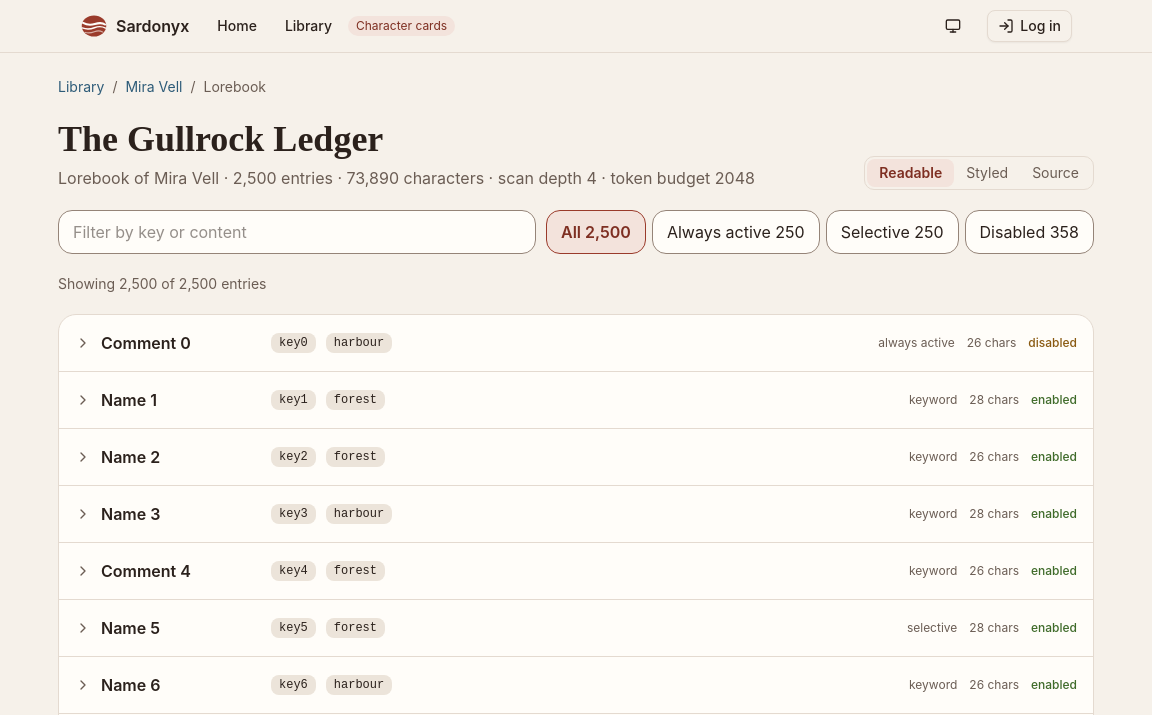
Test: the lorebook page › finds entries by key, name, comment or content, whatever the case, with counts per kind
This screenshot has width=1152, height=715.
Expected: the button "All 2,500" is shown, [546, 210, 646, 254]
Expected: the button "Always active 250" is shown, [652, 210, 820, 254]
In the search field named "Filter entries": [297, 232] box [58, 210, 536, 254], type "DRAGON"
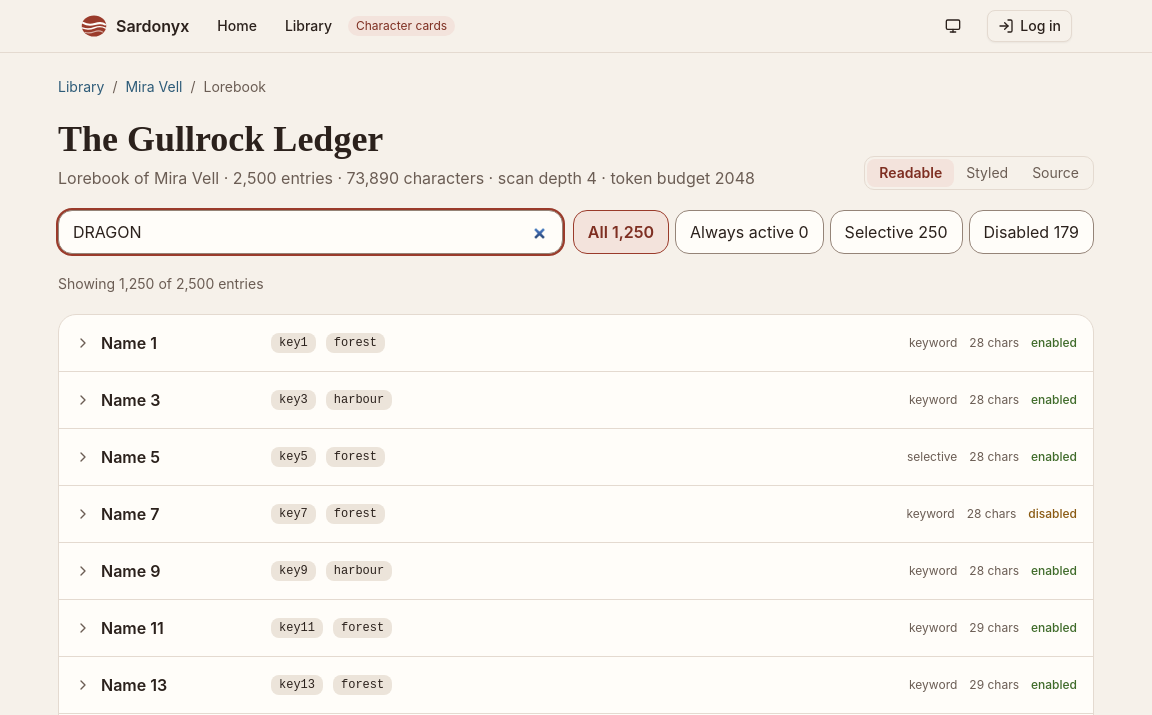
Expected: the text "Showing 1,250 of 2,500 entries" is shown, [58, 275, 264, 292]
Expected: the button "All 1,250" is shown, [573, 210, 669, 254]
Expected: the button "Always active 0" is shown, [675, 210, 824, 254]
// by a key, and by a comment
Clear the search field named "Filter entries": [310, 232] box [58, 210, 563, 254]
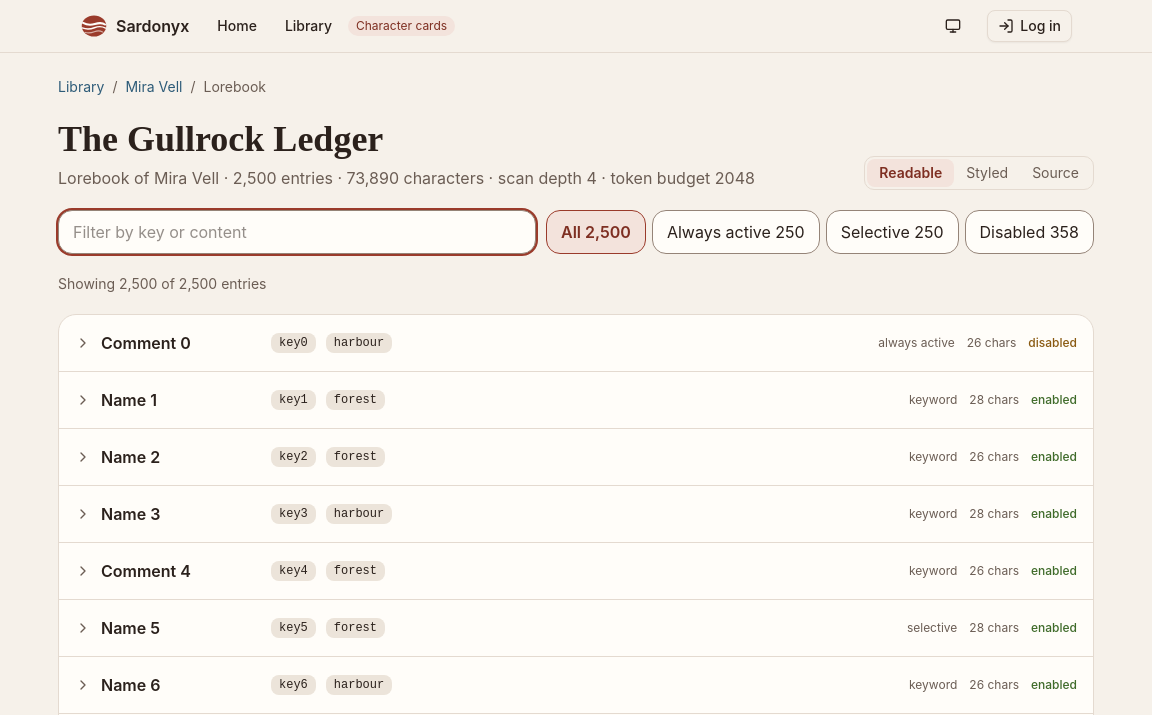
In the search field named "Filter entries": [297, 232] box [58, 210, 536, 254], type "harbour"
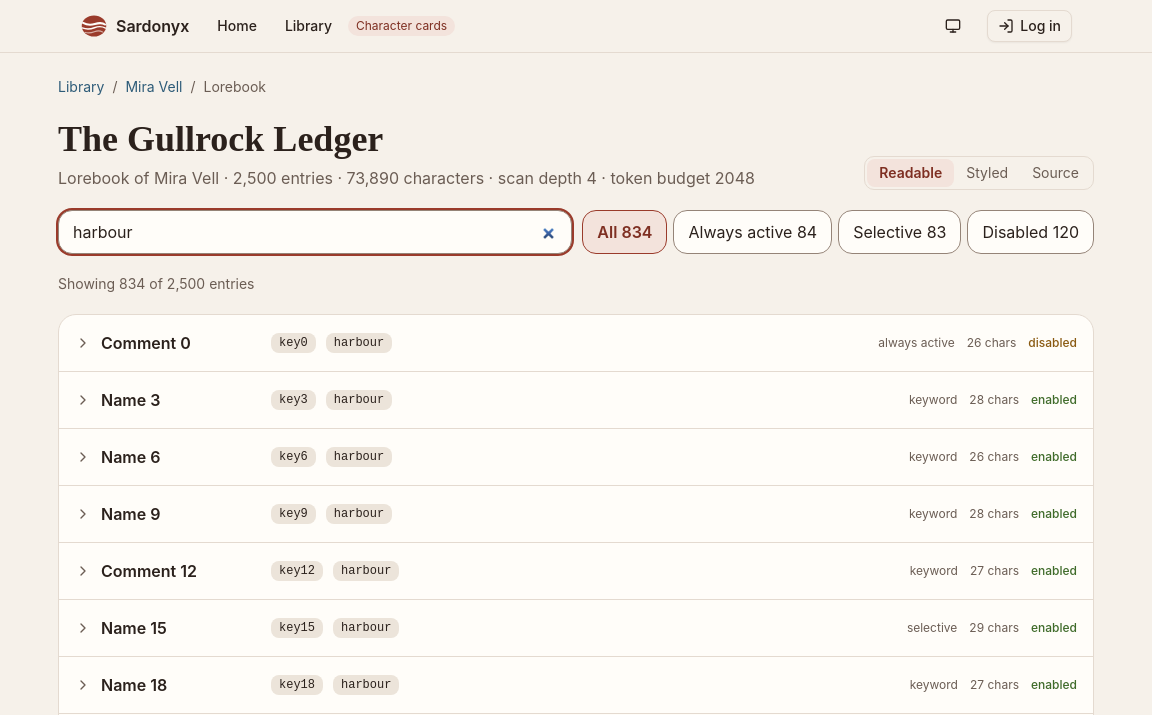
Expected: the text "Showing 834 of 2,500 entries" is shown, [58, 275, 254, 292]
Clear the search field named "Filter entries": [315, 232] box [58, 210, 572, 254]
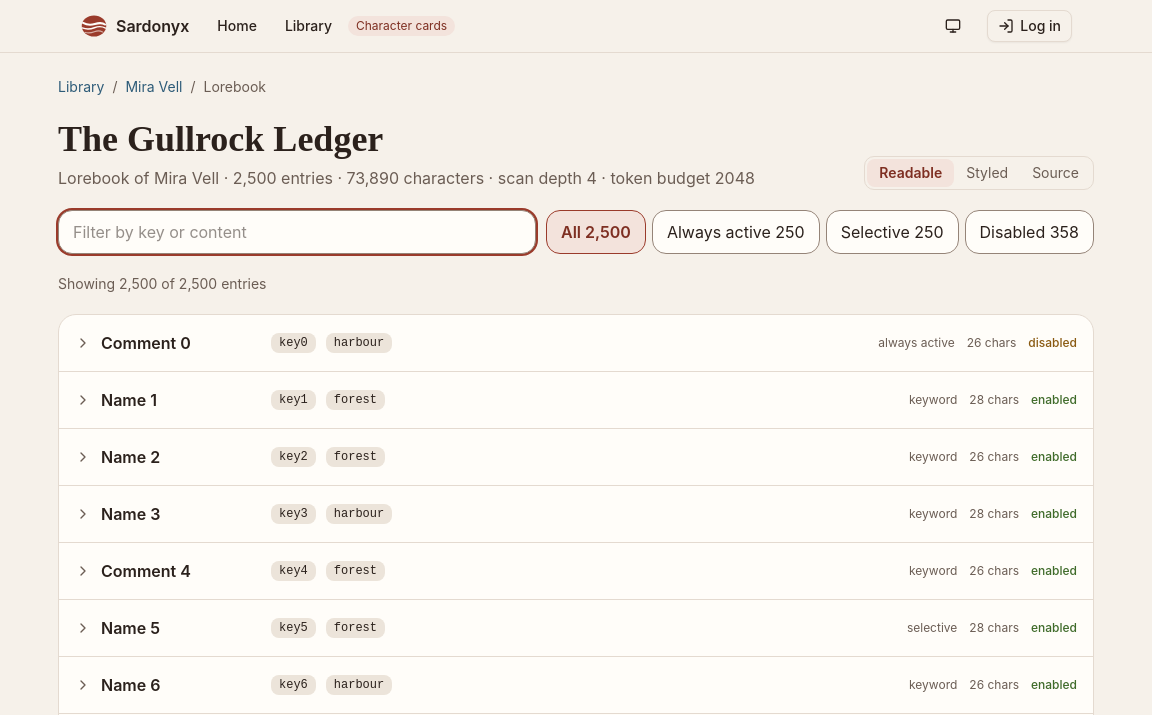
In the search field named "Filter entries": [297, 232] box [58, 210, 536, 254], type "comment 12"
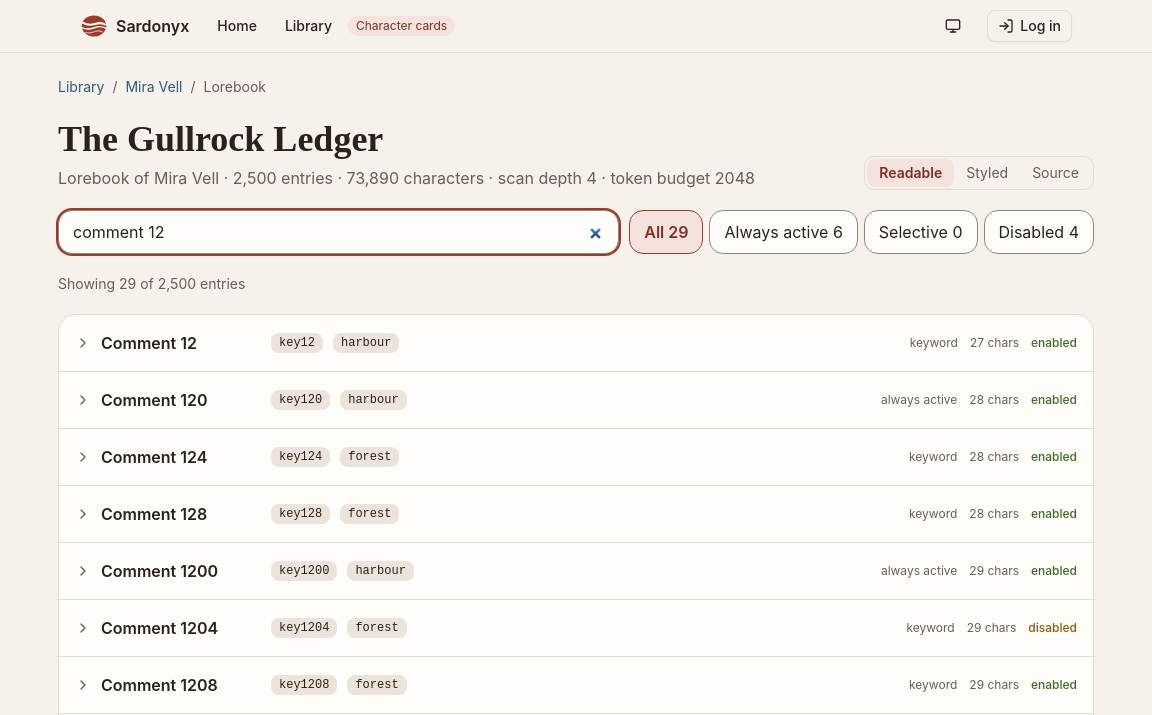
Expected: the text "Showing 29 of 2,500 entries" is shown, [58, 275, 245, 292]
